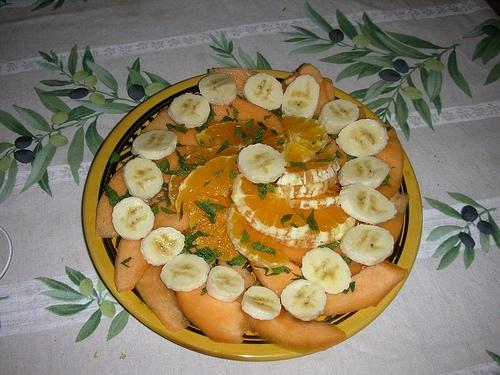banana: (300, 247, 353, 294), (338, 182, 397, 224), (339, 225, 394, 266), (335, 118, 389, 157), (237, 143, 287, 184), (160, 252, 211, 292), (112, 196, 156, 240), (281, 279, 327, 321), (140, 226, 186, 266), (121, 157, 163, 200), (338, 156, 390, 189), (282, 74, 320, 119), (243, 72, 283, 110), (130, 129, 178, 160), (168, 93, 210, 128), (318, 99, 360, 134), (207, 265, 246, 302), (242, 286, 282, 320), (198, 74, 238, 106)
orange: (230, 174, 310, 242), (226, 203, 289, 267), (176, 154, 242, 214), (272, 204, 356, 249), (189, 196, 243, 261), (195, 120, 288, 156), (282, 114, 328, 166), (276, 157, 340, 187), (274, 173, 338, 199), (186, 145, 242, 164), (288, 192, 342, 210), (279, 244, 313, 263)
